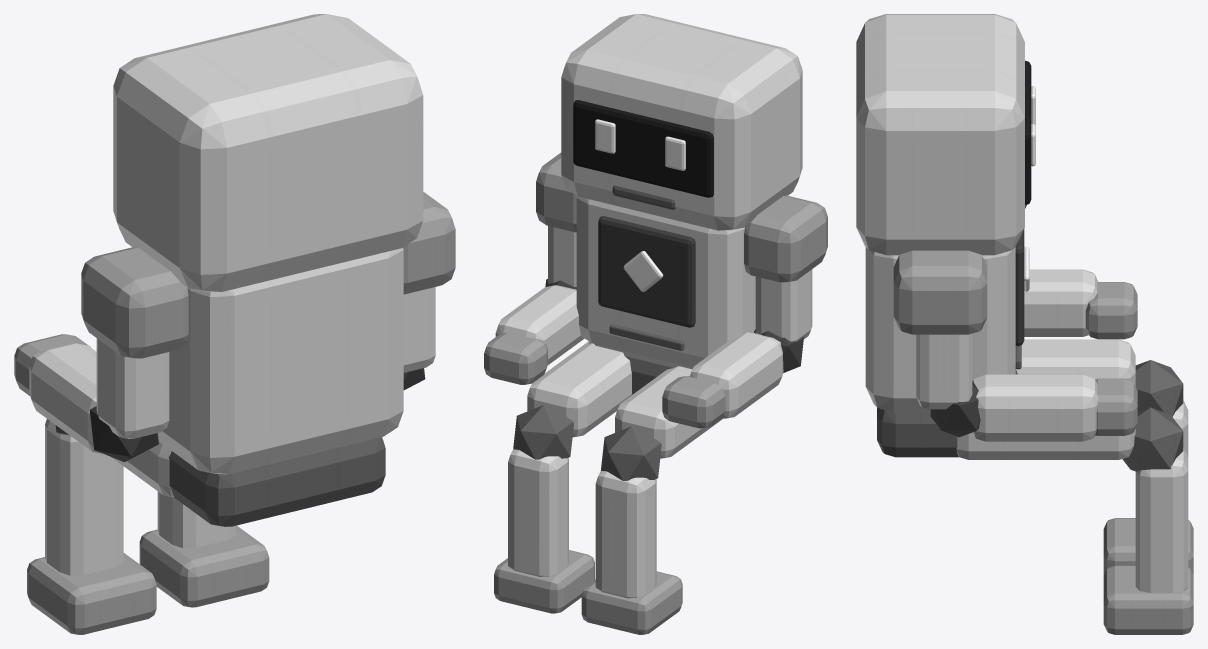
The model's file is bot.fbx.
3 renders of one model, left to right at view 1: azimuth 30°, elevation 25°; view 2: azimuth 150°, elevation 25°; view 3: azimuth 270°, elevation 25°, orthographic. The views are drawn at different scales.
Visible parts, largest first — view 1: bot; view 2: bot; view 3: bot.
Part boxes in pixels (left/top/right/bottom): bot: left=14, top=14, right=455, bottom=634; bot: left=484, top=14, right=827, bottom=634; bot: left=856, top=14, right=1193, bottom=634.
Size of the model in its own units: 180 by 320 by 180.
Materials: 1 (1 with a texture image).
